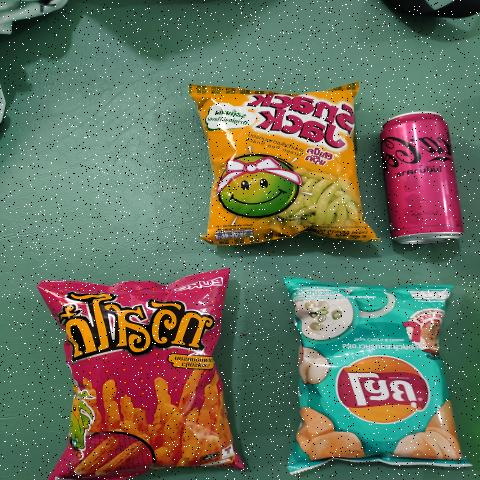coke_red: (390, 111, 446, 254)
lay_blue: (302, 289, 438, 458)
snack_jack: (198, 91, 366, 238)
twisco: (67, 278, 213, 472)
